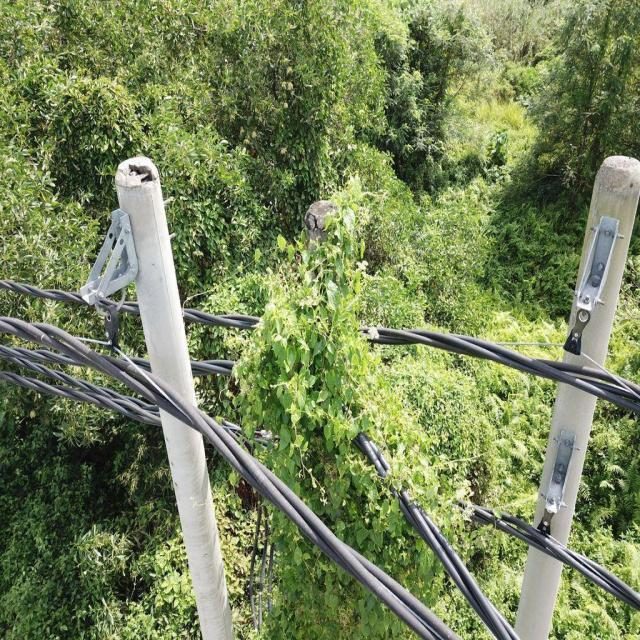critical vegetation: (219, 190, 409, 566)
